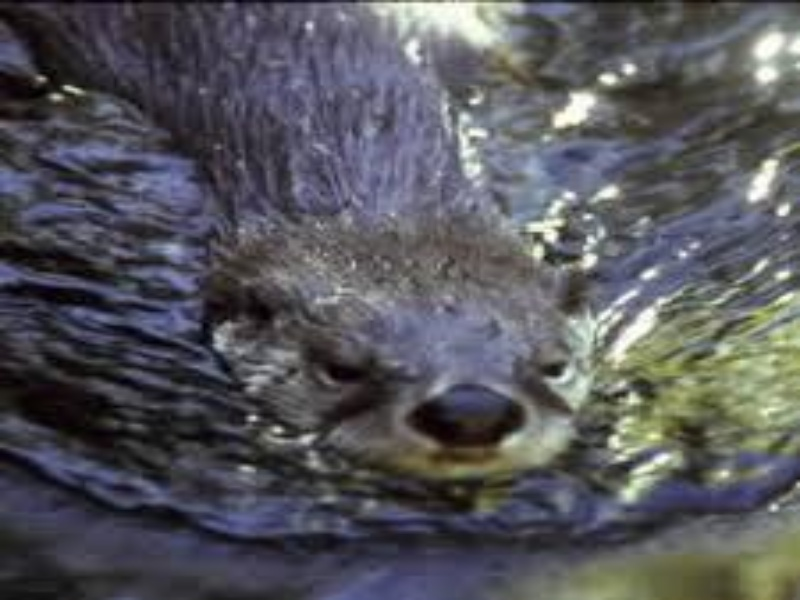minkish: (14, 6, 592, 482)
